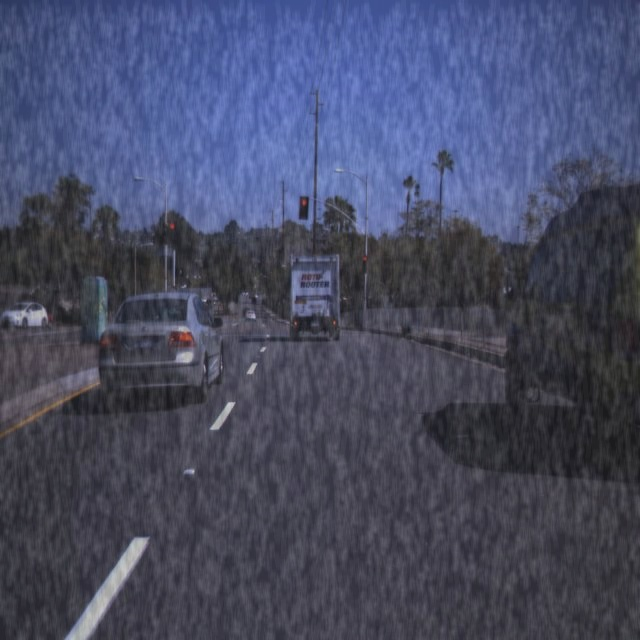stop: (300, 200, 309, 218), (168, 223, 177, 237), (362, 256, 368, 268)
stop traffic light: (300, 200, 309, 218), (168, 223, 177, 237), (362, 256, 368, 268)
